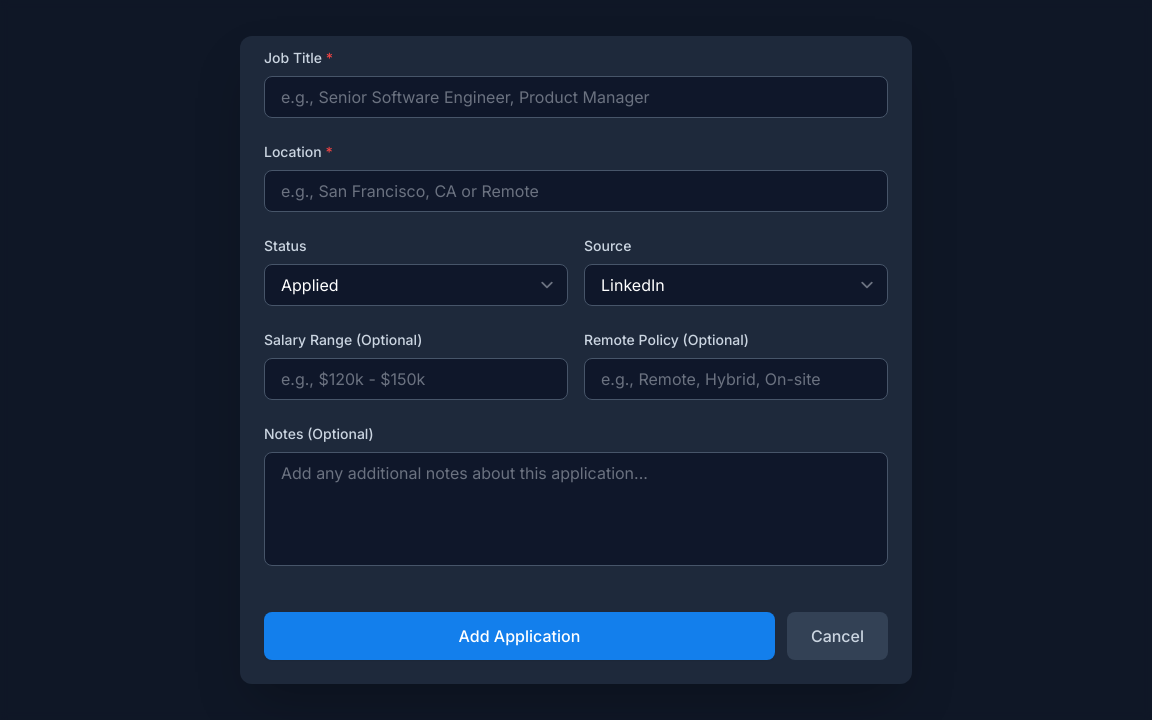
it: Phase 4: Add Application Modal › should clear validation errors when user starts typing
(page scrolled)
Submit to show errors
Click the button "Add Application" at (519, 636), box [264,612,775,660]
(page scrolled)
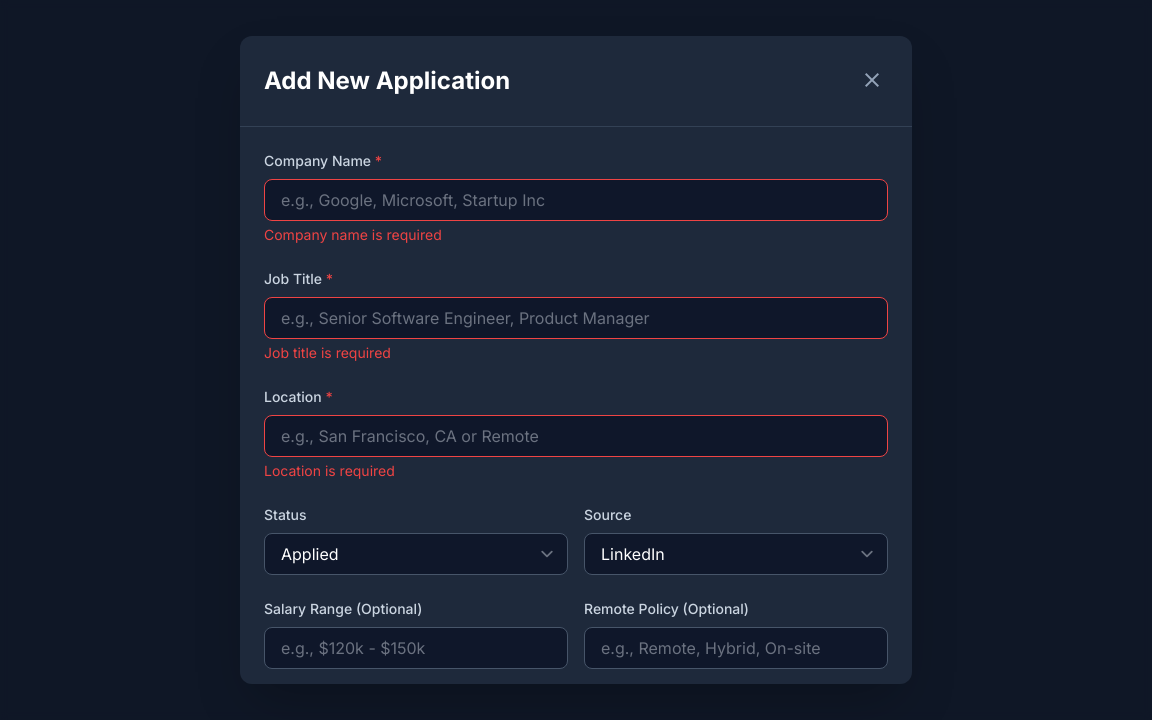
Now the text "Company name is required" is shown, box [264,226,442,243]
Start typing in company field
Type "T" into the field with placeholder "e.g., Google, Microsoft, Startup Inc" at (576, 200), box [264,179,888,221]
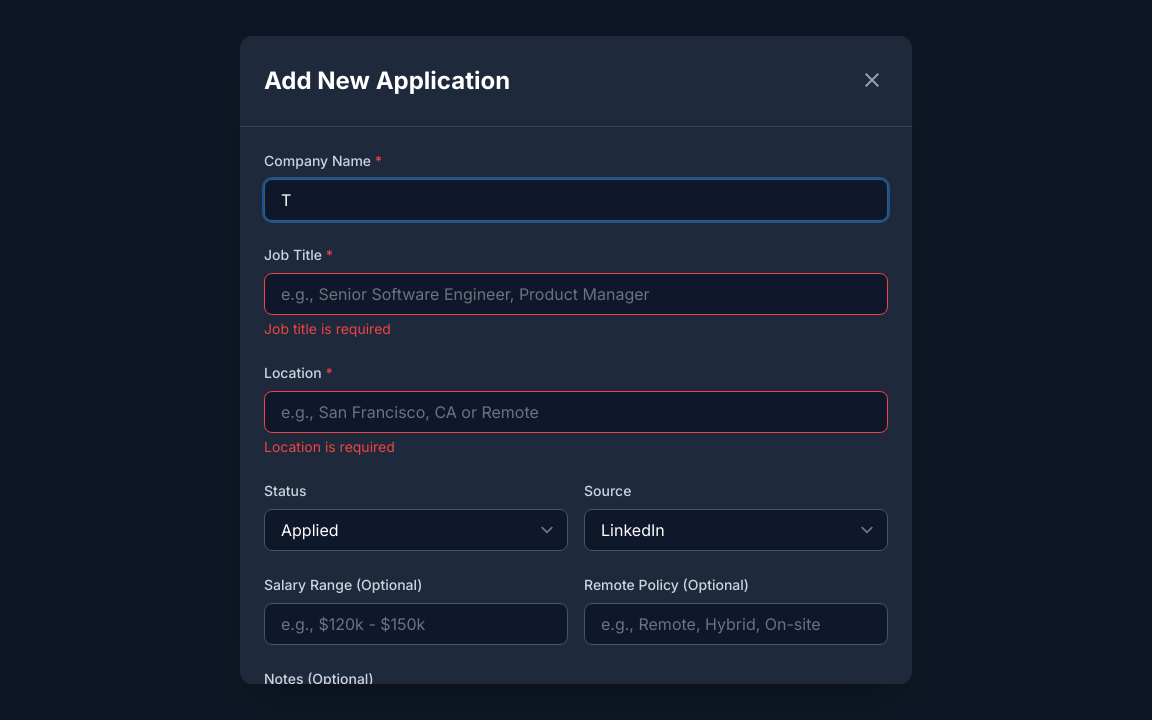
Now the text "Company name is required" is gone
